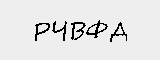В: (69, 19, 85, 41)
Д: (109, 21, 130, 41)
Р: (32, 19, 51, 43)
Ф: (86, 17, 108, 41)
Ч: (51, 19, 69, 41)
